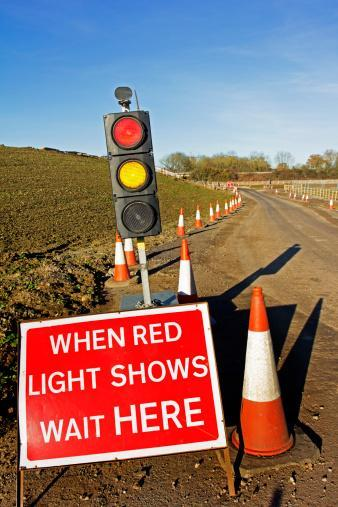Cone: (218, 288, 324, 472), (104, 229, 141, 285), (175, 238, 200, 306), (175, 208, 188, 238), (192, 204, 205, 228), (209, 201, 217, 226), (222, 198, 231, 217), (329, 195, 332, 208)
